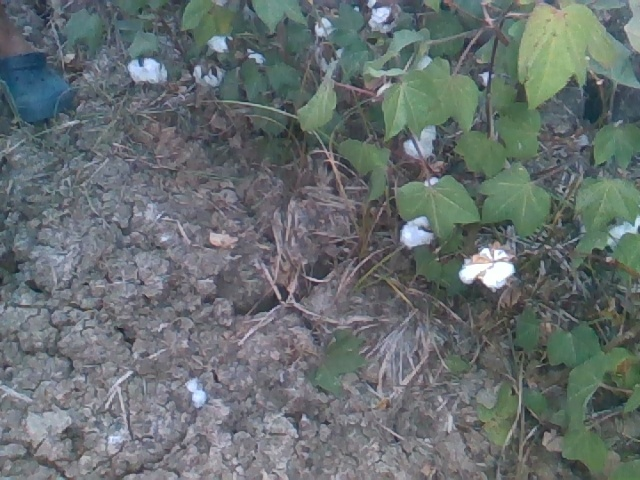cotton: (460, 248, 515, 290), (127, 56, 170, 88), (399, 216, 434, 247), (402, 126, 433, 159), (191, 62, 221, 88), (369, 6, 395, 36), (607, 220, 640, 238), (210, 34, 229, 53), (316, 18, 332, 39), (247, 49, 264, 67), (422, 177, 437, 187)
